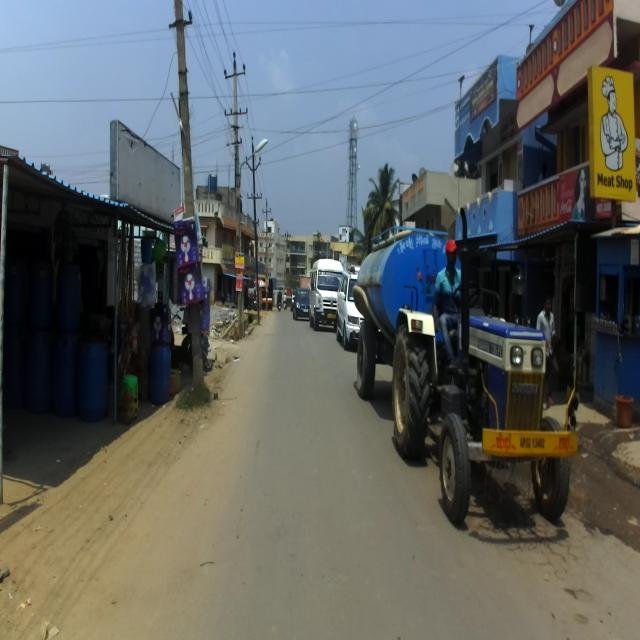electric pole ahead at: (165, 0, 217, 405)
truck ahead at: (354, 202, 585, 528)
